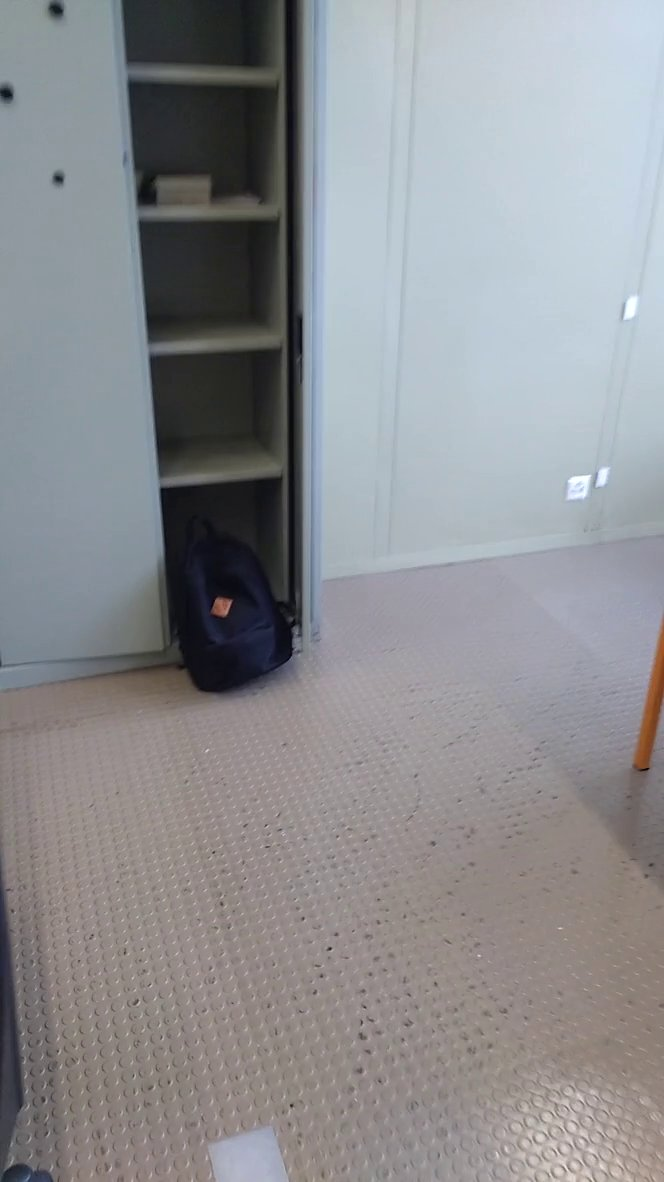bag: (158, 504, 305, 708)
